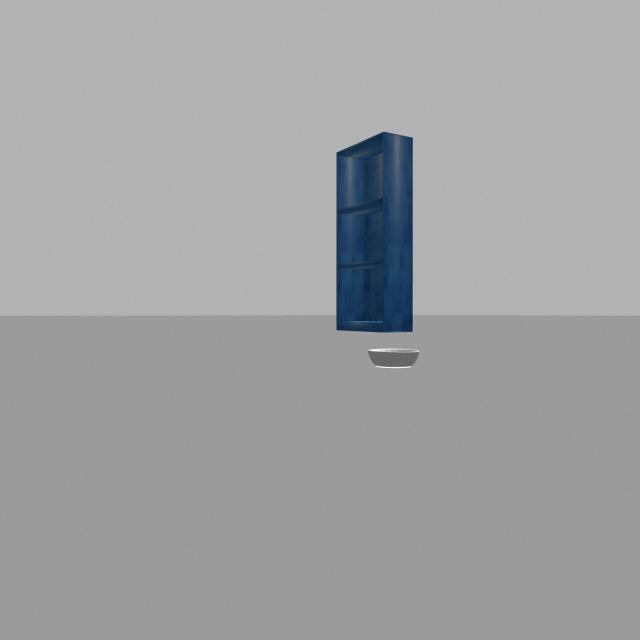bowl: (360, 339, 424, 375)
shelf: (327, 125, 422, 342)
